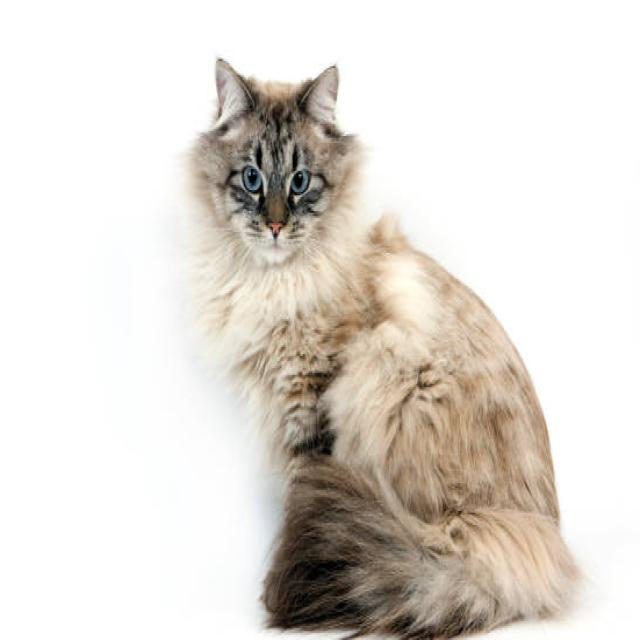Neva Masquerade: (177, 47, 581, 637)
